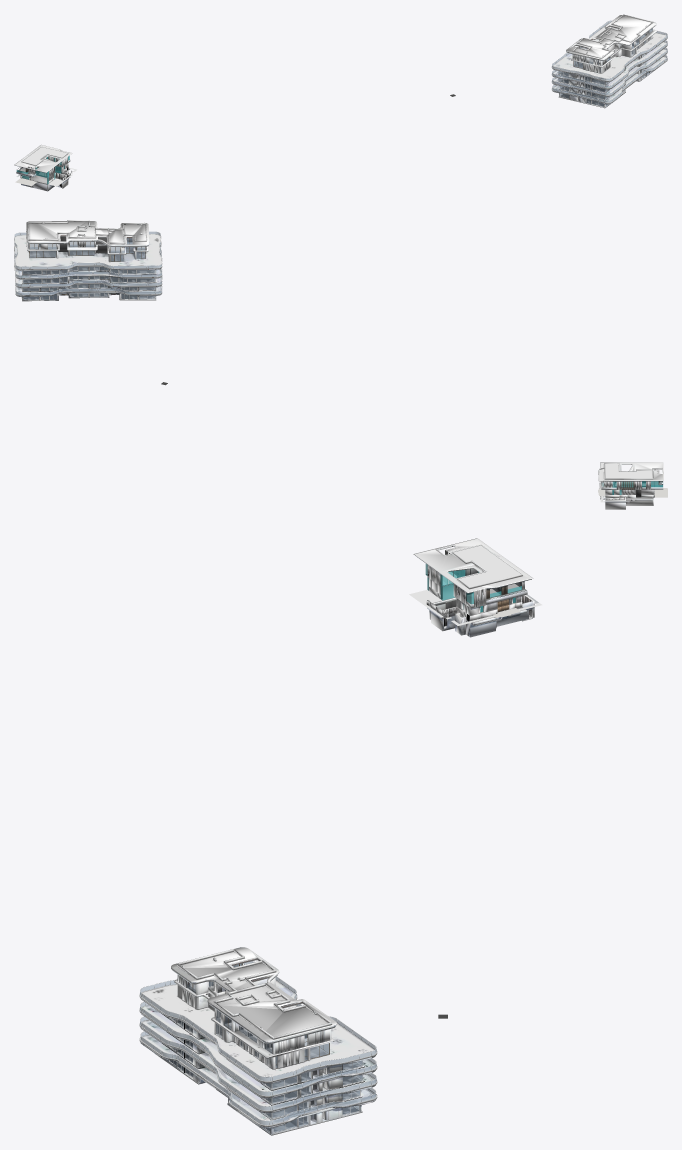
Rendered from Elie Saab_build.glb.
3 renders of one model, top to bottom at view 1: azimuth 30°, elevation 25°; view 2: azimuth 150°, elevation 25°; view 3: azimuth 270°, elevation 25°, orthographic. The views are drawn at different scales.
Visible parts, largest first — view 1: Elie Saab_build; view 2: Elie Saab_build; view 3: Elie Saab_build.
Boxes of the visible parts, <box> form: Elie Saab_build: <box>14,14,667,191</box>; Elie Saab_build: <box>14,220,667,509</box>; Elie Saab_build: <box>139,538,541,1135</box>.
Bounding box in the file's own units: 291 × 30.82 × 84.54.
Materials: 16 (9 with a texture image).
